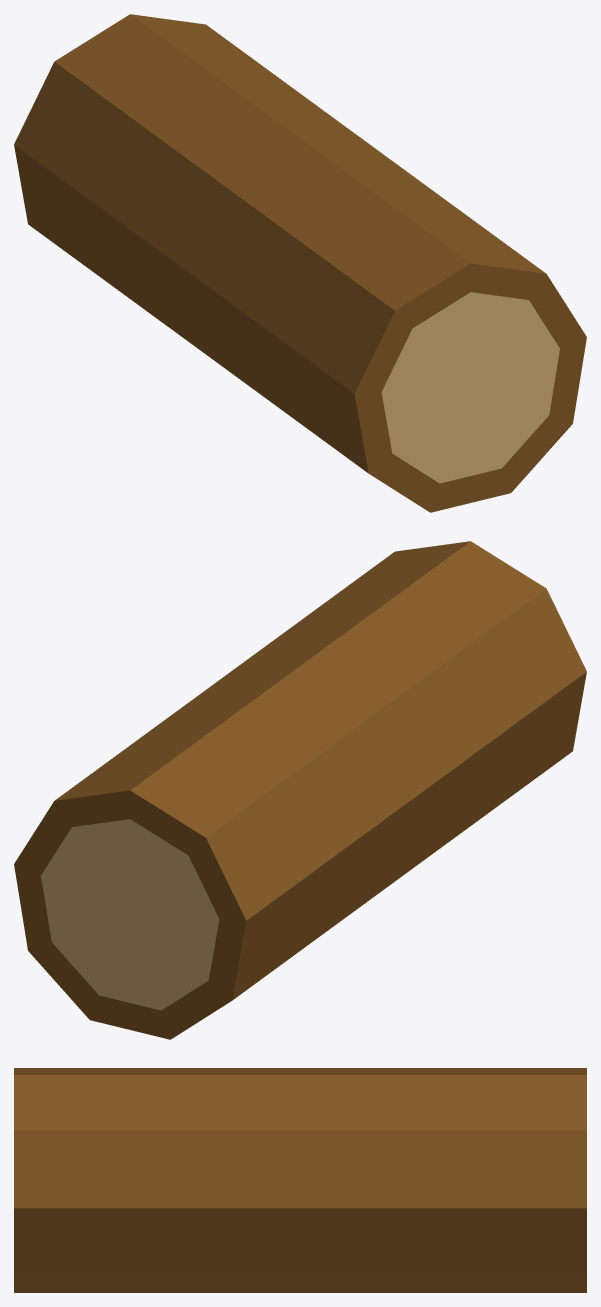
Rendered from log.fbx.
The picture shows the model from 3 angles, top to bottom: view 1: azimuth 30°, elevation 25°; view 2: azimuth 150°, elevation 25°; view 3: azimuth 270°, elevation 25°; orthographic projection. The views are drawn at different scales.
Visible parts, largest first — view 1: Log; view 2: Log; view 3: Log.
Part boxes in pixels (box(x1,y1,x2,y2)): Log: box(14, 14, 586, 512); Log: box(14, 541, 586, 1039); Log: box(14, 1068, 586, 1292).
Bounding box in the file's own units: 197 × 194 × 500.
